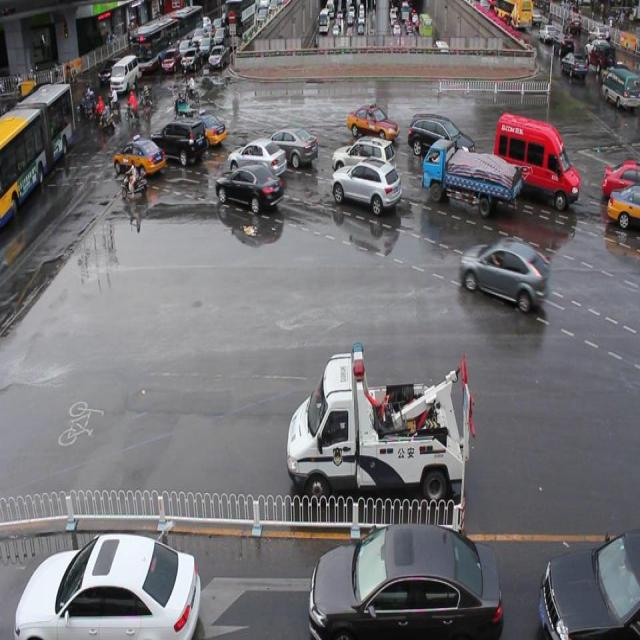bus: (288, 335, 476, 505), (423, 139, 522, 215)
car: (310, 525, 502, 640), (17, 533, 200, 640), (540, 533, 640, 640), (462, 238, 548, 310), (332, 159, 401, 213), (332, 135, 396, 190), (408, 108, 474, 160), (216, 162, 282, 212), (228, 137, 286, 182), (151, 118, 206, 164), (265, 126, 317, 167), (116, 140, 166, 178), (348, 100, 398, 136), (179, 110, 227, 146), (603, 154, 640, 197), (608, 180, 640, 227)
truck: (492, 107, 580, 202)
